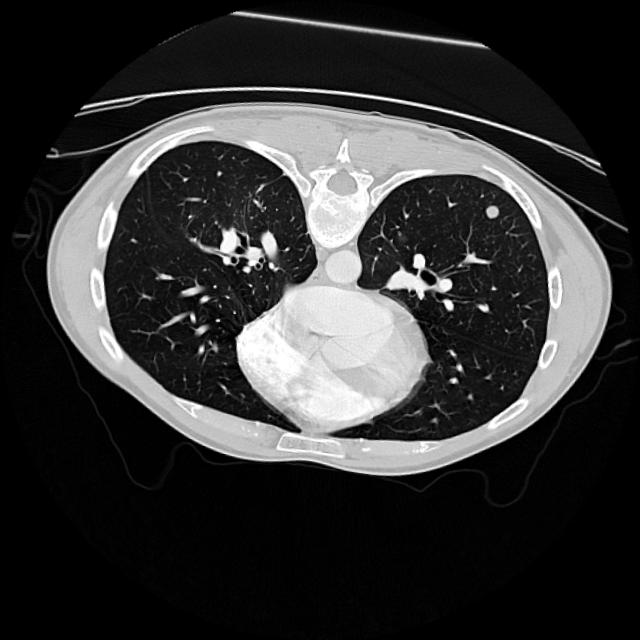nodule: (470, 192, 510, 232)
